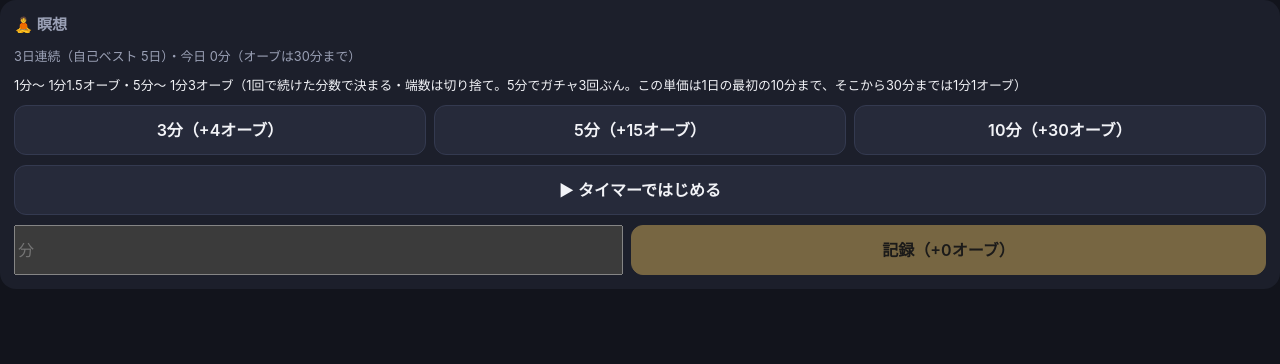
画面の表示 › 習慣：1分・3分から記録でき、タイマーでも計れる
Click the button "3分（+4オーブ）". click: (220, 130)
box: [14,105,426,155]
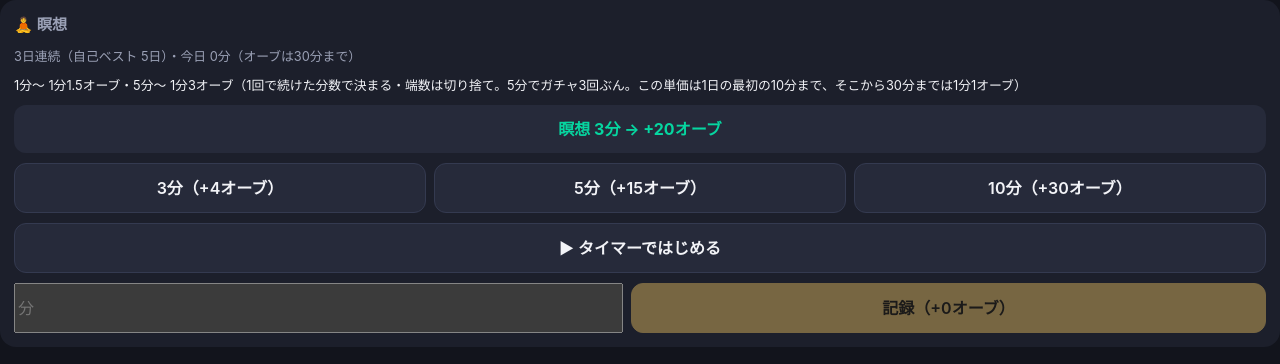
Click the button "▶ タイマーではじめる". click: (640, 248)
box: [14,223,1266,273]
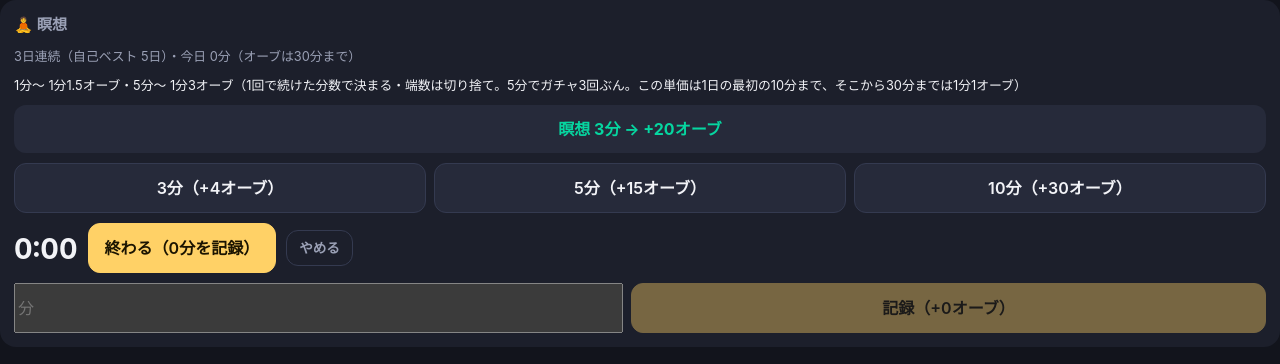
Check: the text "終わる（0分を記録）" is shown, box [88,223,276,273]
Click the button "やめる". click: (320, 248)
box: [286,230,353,266]
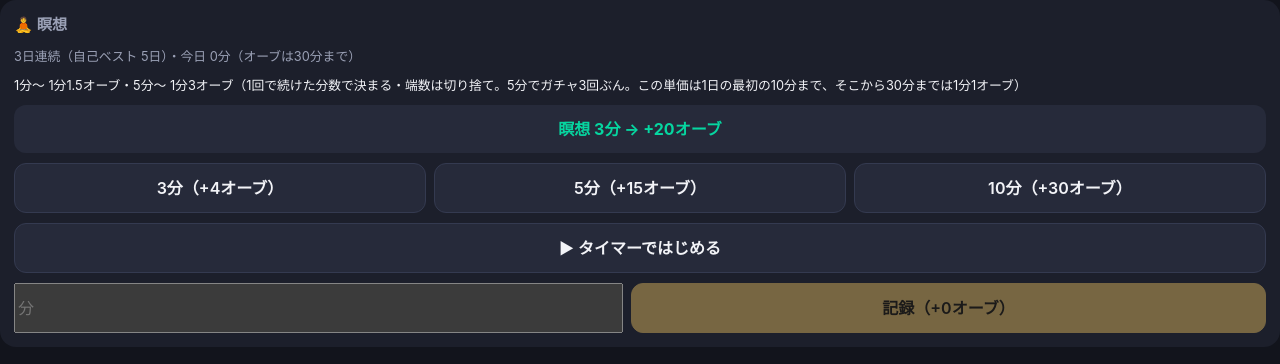
Check: the text "タイマーではじめる" is shown, box [14,223,1266,273]
